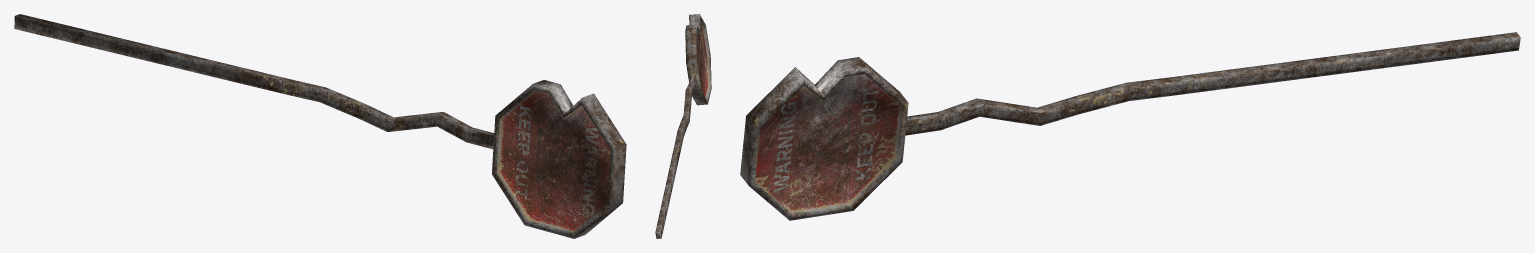
File: Anim_idle_senyal_objetos.0017.obj
3 views of the same model, side by side, from view 1: azimuth 30°, elevation 25°; view 2: azimuth 150°, elevation 25°; view 3: azimuth 270°, elevation 25° (orthographic). The views are drawn at different scales.
Bounding box in the file's own units: 5.36 × 2.55 × 11.58.
